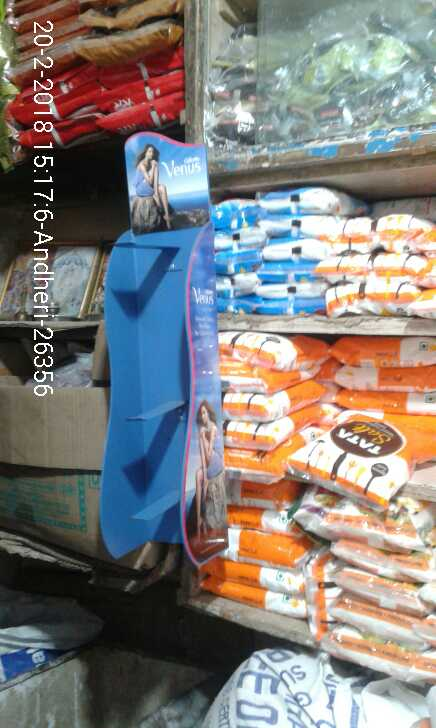reject: (134, 231, 198, 413)
